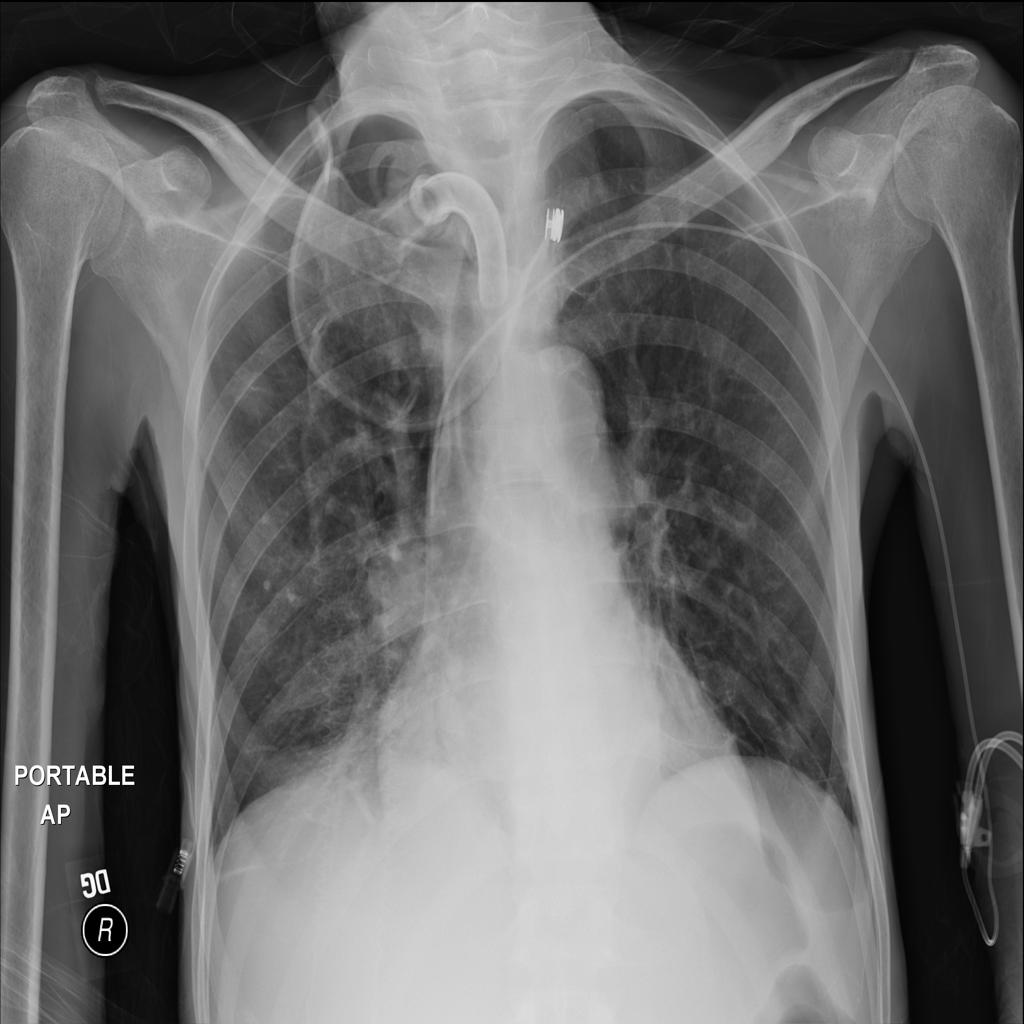nodule: (219, 354, 289, 433)
